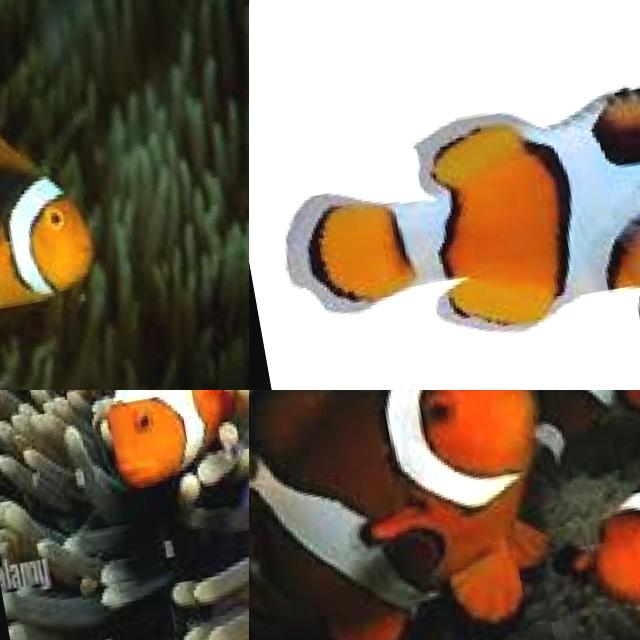Amphiprion-percula: (253, 33, 640, 390), (249, 390, 594, 640), (0, 49, 199, 369), (46, 390, 249, 581), (533, 390, 640, 640), (520, 390, 640, 477)
